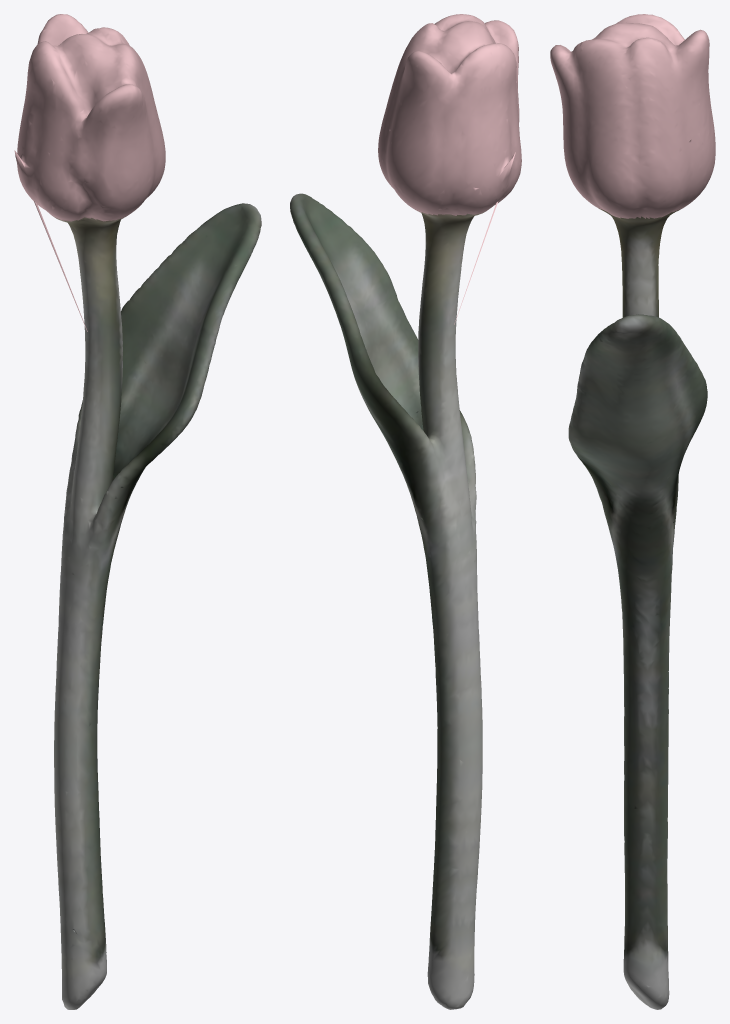
The model's file is tulip-ai.glb.
The picture shows the model from 3 angles, left to right: view 1: azimuth 30°, elevation 25°; view 2: azimuth 150°, elevation 25°; view 3: azimuth 270°, elevation 25°; orthographic projection.
Visible parts, largest first — view 1: stem, petal; view 2: stem, petal; view 3: stem, petal.
Part boxes in pixels (x1,y1,x2,y2): stem: (53,203,261,1009); petal: (14,14,165,331); stem: (290,193,495,1009); petal: (378,14,521,324); stem: (568,208,707,1009); petal: (550,14,715,218).
Size of the model in its own units: 0.4889 by 1.96 by 0.2987.
